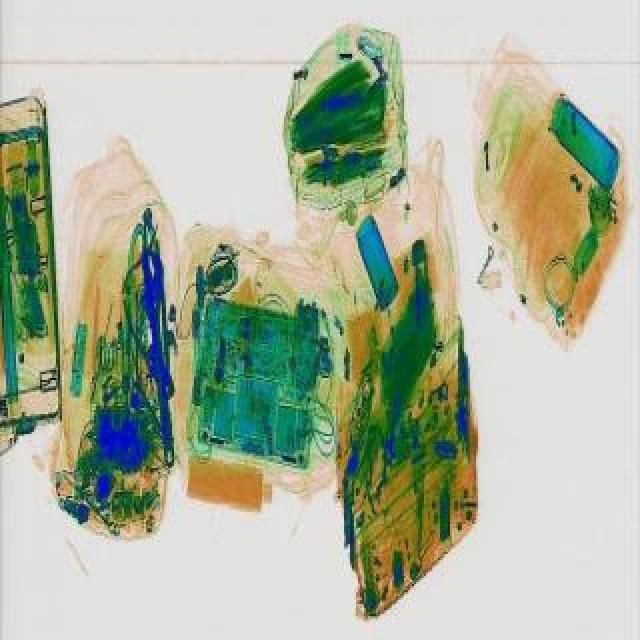scissors: (134, 244, 182, 460)
